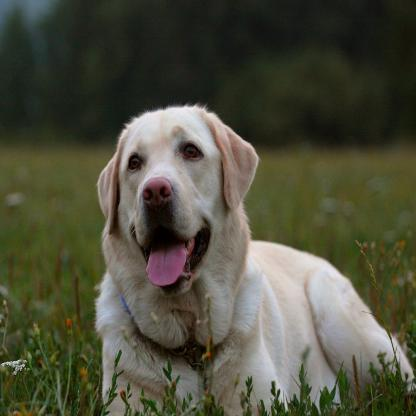Rotveler: (93, 99, 416, 416)
